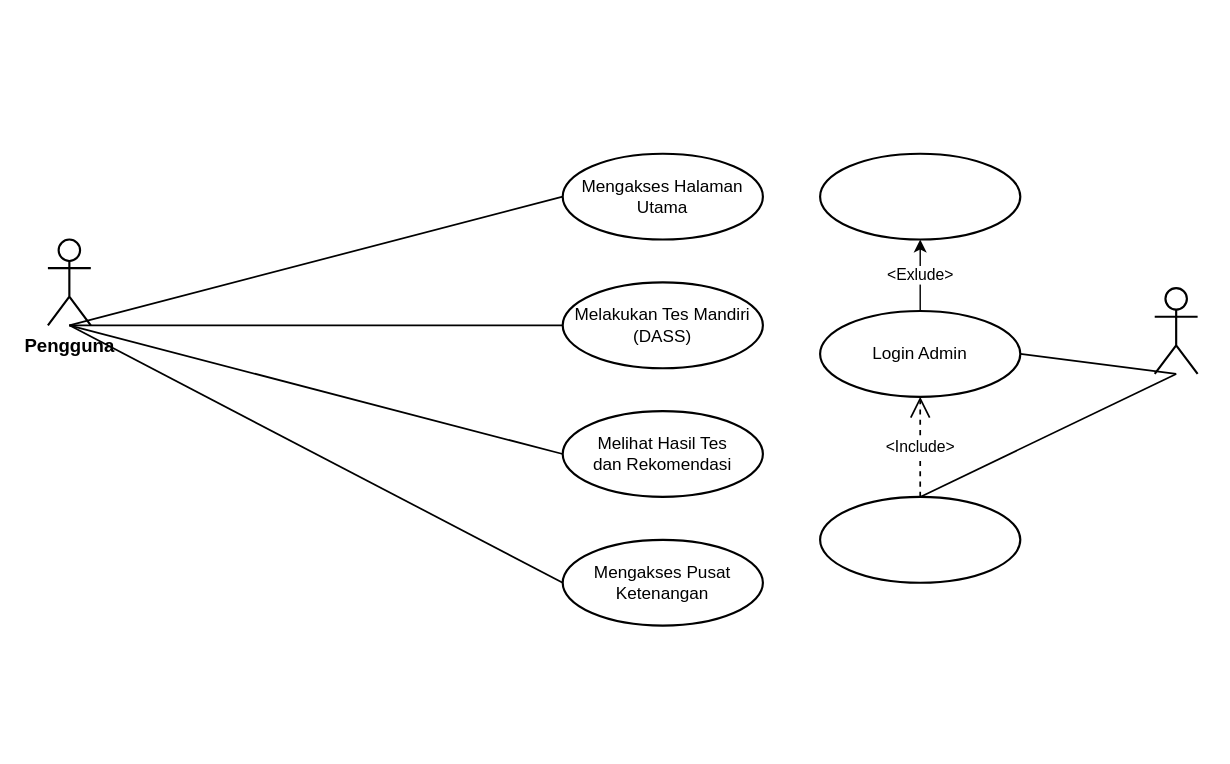
Image size: 1230x764. Some labels were removed from this diagram. The centre of each missing label's shape, as x and y in pixels:
"Admin" goes at point 1175,330.
"LogOut" goes at point 919,196.
"Mengelola Gejala Pertanyaan DASS" goes at point 919,539.
